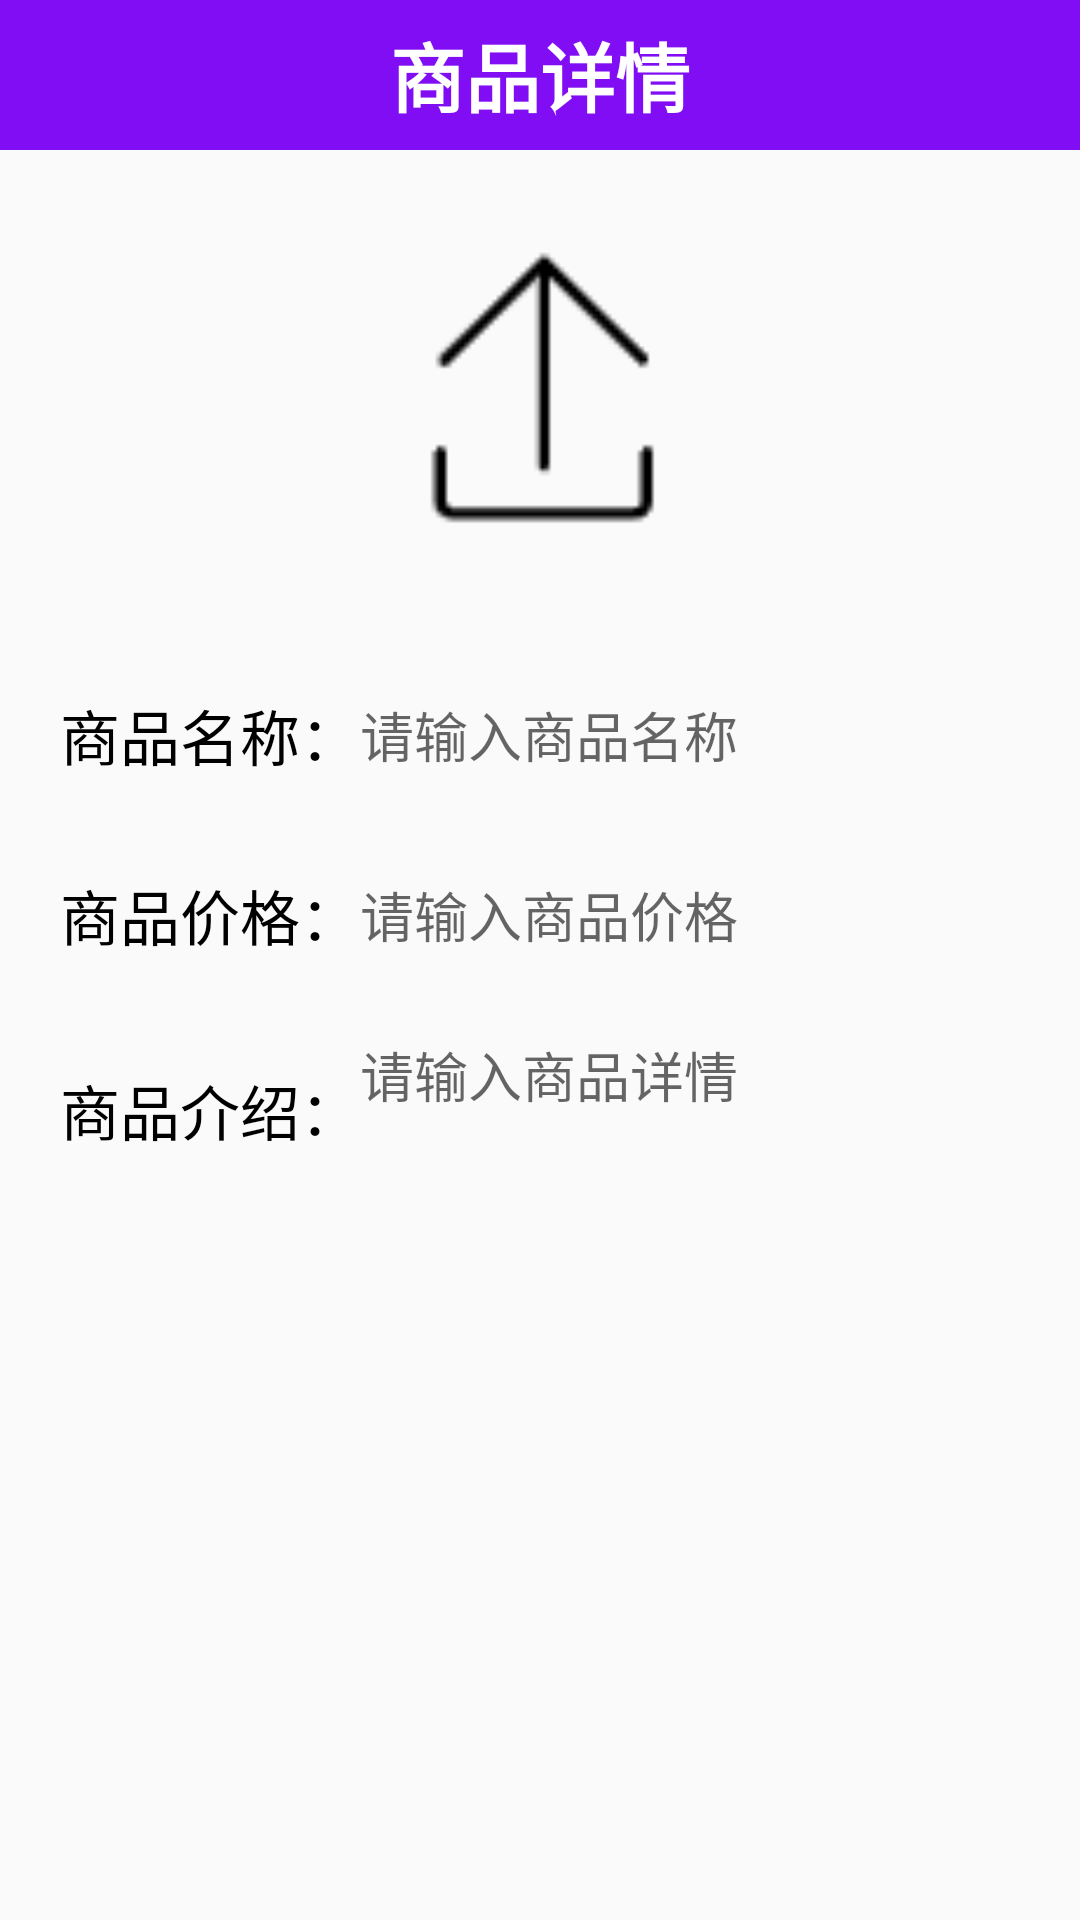

Icons on this 1080px x 1920px Android screen, each with the point to tap as (x=x, y=y):
upload pic: (x=542, y=388)
